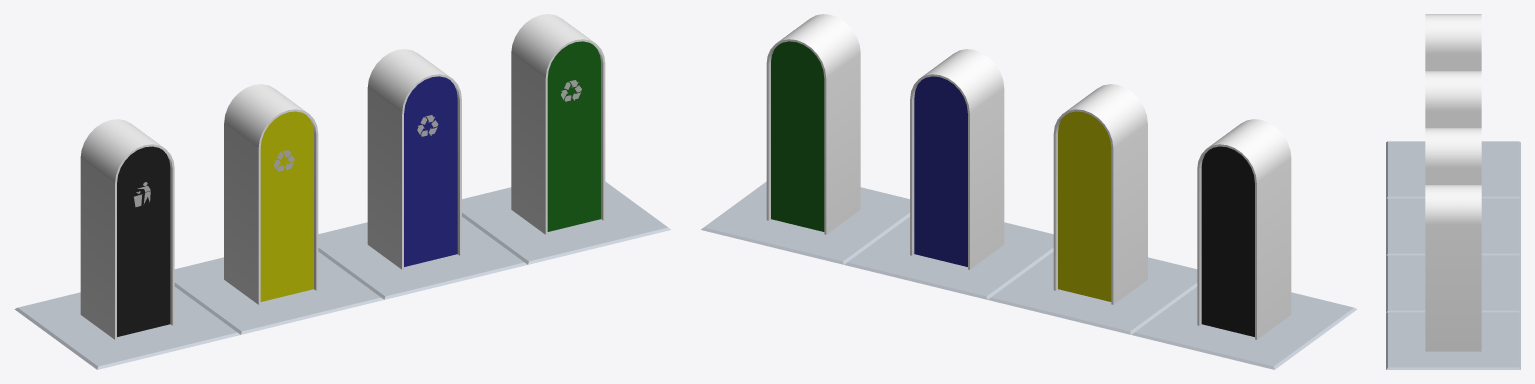
The model's file is Garbage - Recycling.fbx.
3 renders of one model, left to right at view 1: azimuth 30°, elevation 25°; view 2: azimuth 150°, elevation 25°; view 3: azimuth 270°, elevation 25°, orthographic. The views are drawn at different scales.
Parts seen in each view (by area): view 1: Model; view 2: Model; view 3: Model.
Boxes of the visible parts, bbox=[...] form: Model: bbox=[14, 14, 670, 369]; Model: bbox=[701, 14, 1357, 369]; Model: bbox=[1386, 14, 1520, 369].
Size of the model in its own units: 2.88 by 0.91 by 0.721.
